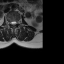CCS_normal: (12, 19, 14, 27)
LFS_normal: (16, 19, 19, 25)
LLS_normal: (14, 19, 16, 26)
RFS_normal: (8, 19, 10, 26)
RLS_normal: (10, 19, 12, 26)
